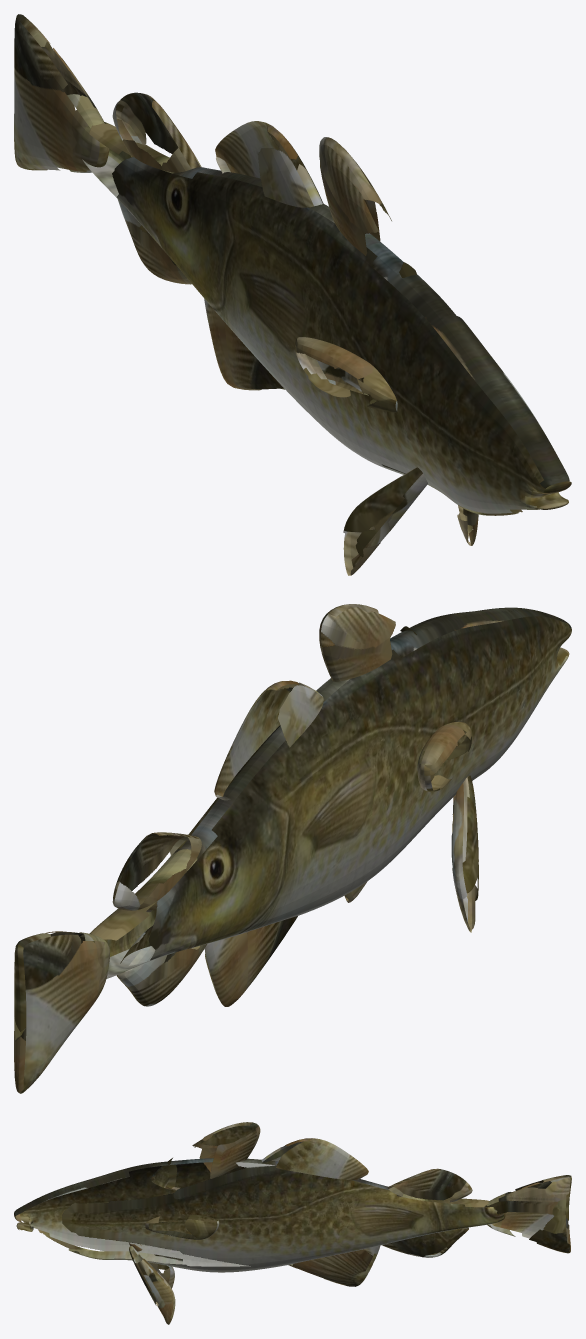
File: Cod.obj
The picture shows the model from 3 angles, top to bottom: view 1: azimuth 30°, elevation 25°; view 2: azimuth 150°, elevation 25°; view 3: azimuth 270°, elevation 25°; orthographic projection. The views are drawn at different scales.
Visible parts, largest first — view 1: Cube.001; view 2: Cube.001; view 3: Cube.001.
Part boxes in pixels (bbox=[...]): Cube.001: bbox=[14, 14, 571, 575]; Cube.001: bbox=[14, 604, 571, 1093]; Cube.001: bbox=[14, 1122, 571, 1324].
Bounding box in the file's own units: 0.937 × 2.32 × 6.27.
Materials: 1 (1 with a texture image).
